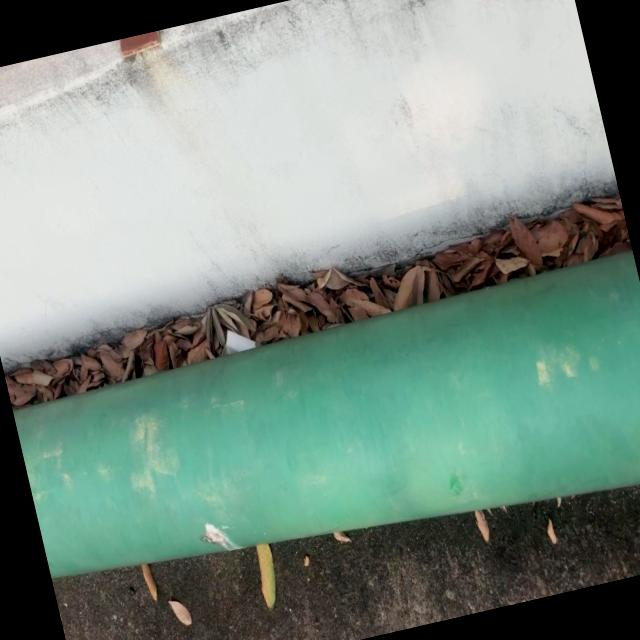gas: (7, 245, 640, 619)
